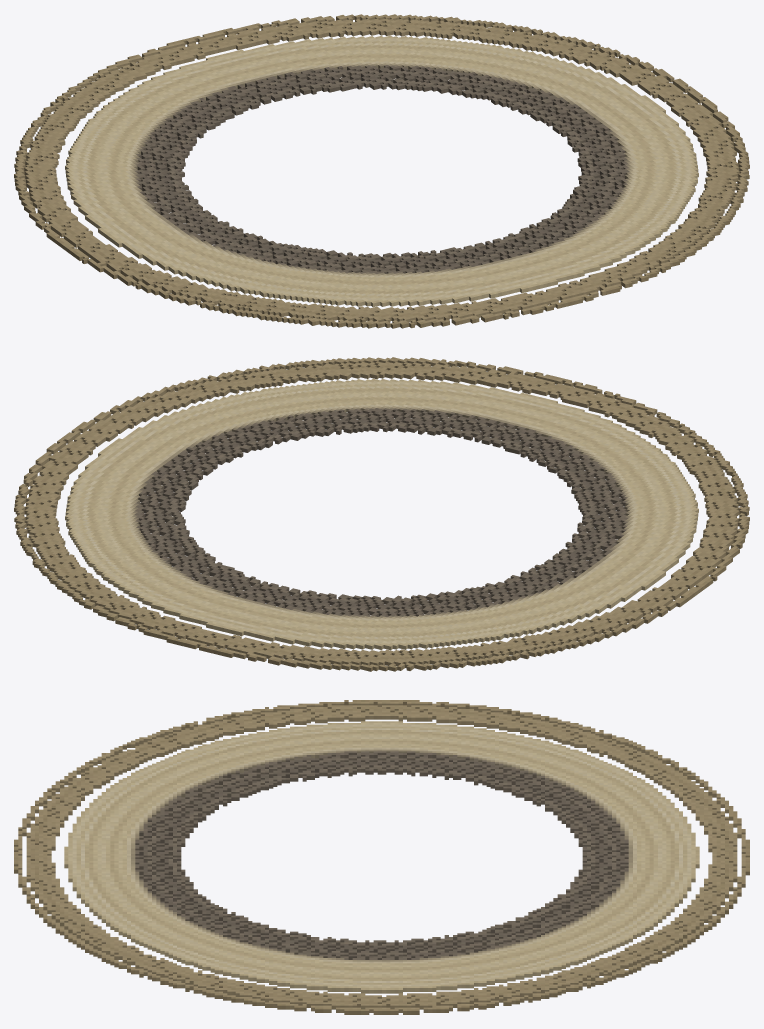
File: saturn_rings_lod0.glb
The picture shows the model from 3 angles, top to bottom: view 1: azimuth 30°, elevation 25°; view 2: azimuth 150°, elevation 25°; view 3: azimuth 270°, elevation 25°; orthographic projection.
Parts seen in each view (by area): view 1: saturn_rings_lod0; view 2: saturn_rings_lod0; view 3: saturn_rings_lod0.
Boxes of the visible parts, left/top/right/bottom form: saturn_rings_lod0: left=14, top=14, right=749, bottom=328; saturn_rings_lod0: left=14, top=357, right=749, bottom=671; saturn_rings_lod0: left=14, top=700, right=749, bottom=1014.
Size of the model in its own units: 4.7 by 0.0267 by 4.7.
